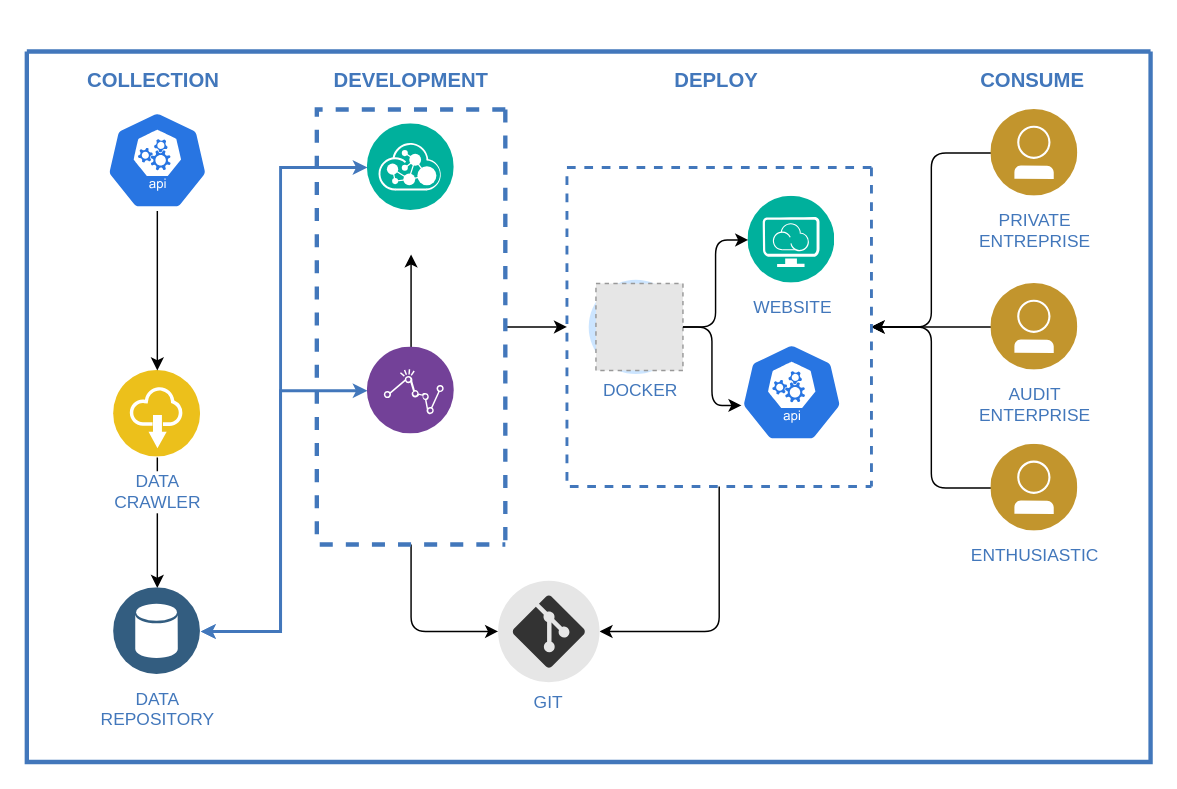
This 1177x789 diagram has some shape labels left out. Grey dashed boxes stand in for pictures. Here are the shapes that lost their labels. From the top down, the centre of each, then its label:
At [156,159]: "API PORTAL DA TRANSPARÊNCIA".
At [410,166]: "API & WEBSERVER".
At [410,390]: "DISCOVERY, EXPLORATION & MACHINE LEARNING".
At [791,391]: "API".
